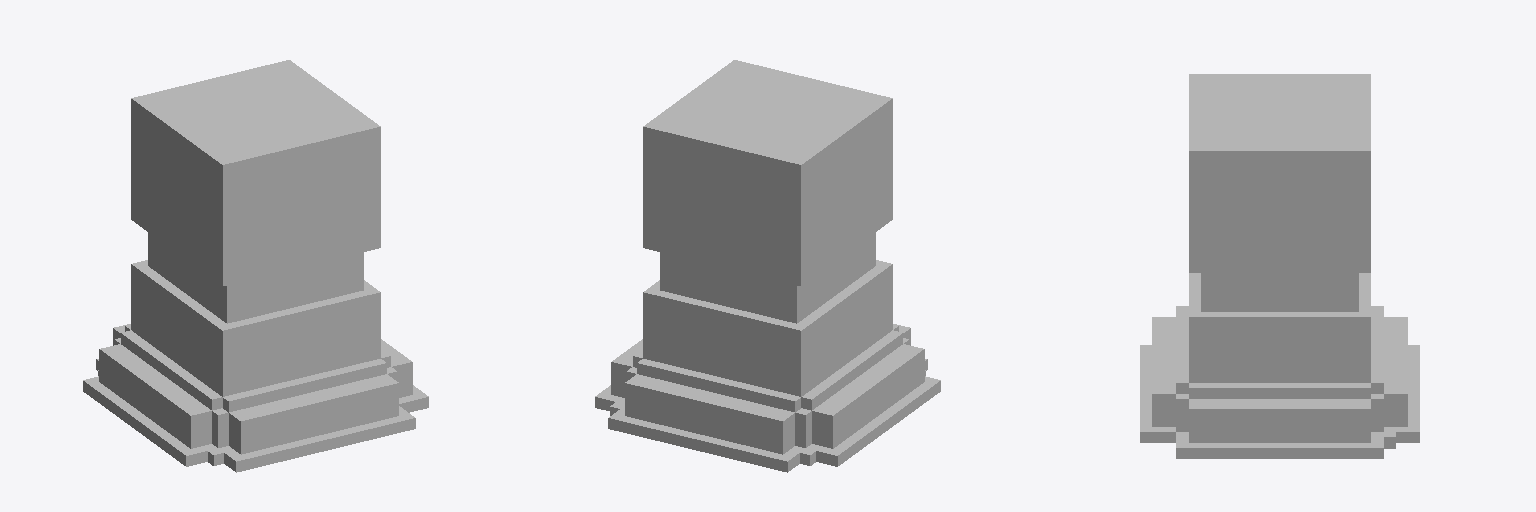
Rendered from TurretBody.obj.
The picture shows the model from 3 angles: view 1: azimuth 30°, elevation 25°; view 2: azimuth 150°, elevation 25°; view 3: azimuth 270°, elevation 25°; orthographic projection.
Visible parts, largest first — view 1: object 1; view 2: object 1; view 3: object 1.
Part boxes in pixels (bbox=[...]): object 1: bbox=[83, 60, 428, 472]; object 1: bbox=[595, 60, 940, 472]; object 1: bbox=[1140, 74, 1419, 458].
Bounding box in the file's own units: 2.3 × 2.6 × 2.3.